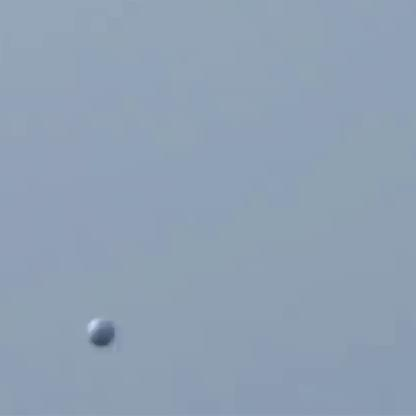golfball: (86, 312, 114, 343)
